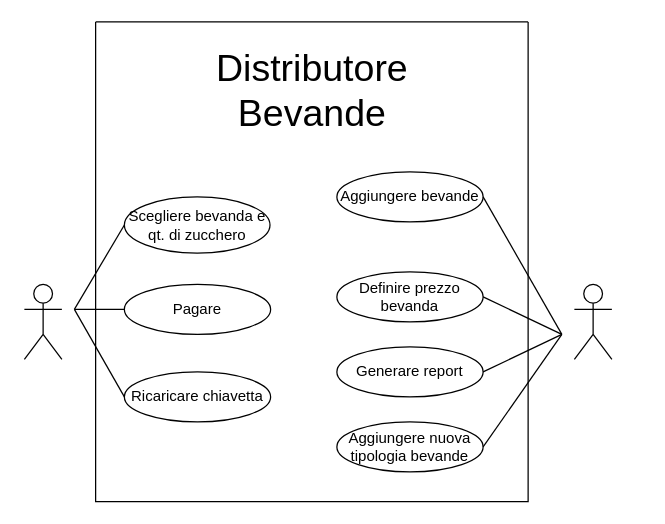
Image size: 665x524. Some labels were removed from this diagram. The box of each missing label's shape, as (x1, y1, x2, y2) in pixels:
Amministratore: (573, 283, 612, 359)
Utente: (23, 283, 62, 359)
